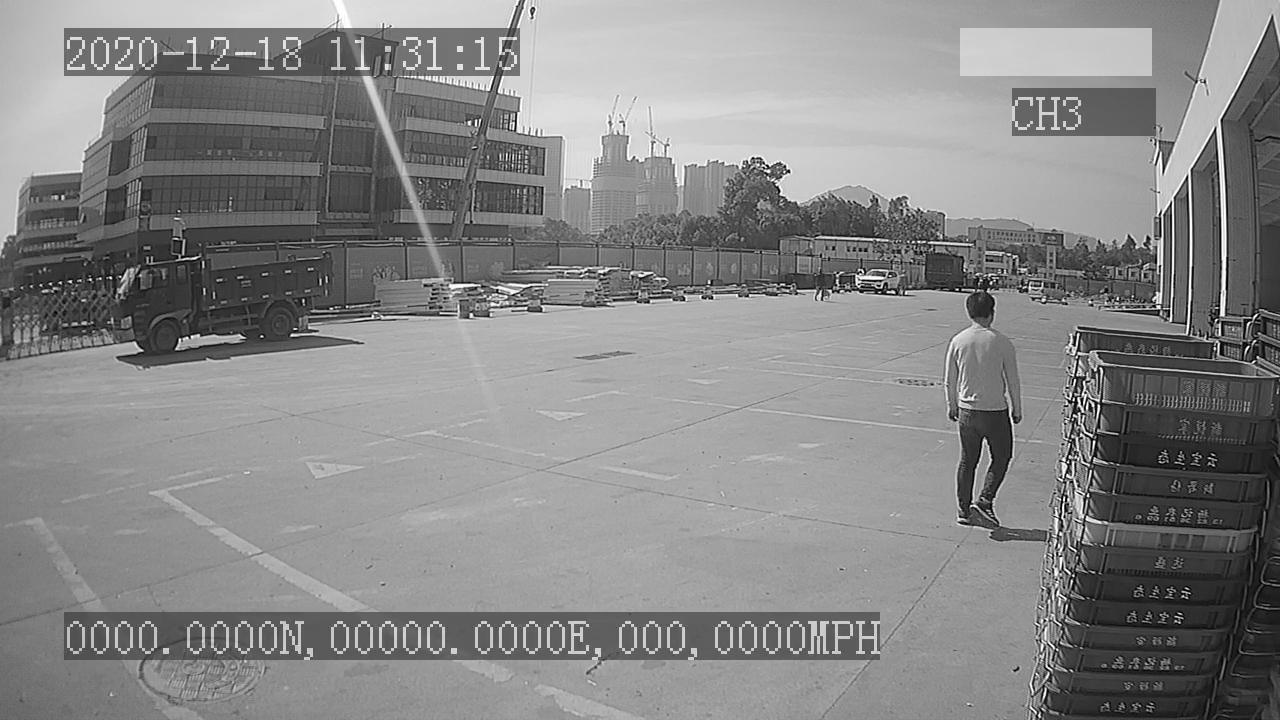person: (938, 291, 1025, 532)
